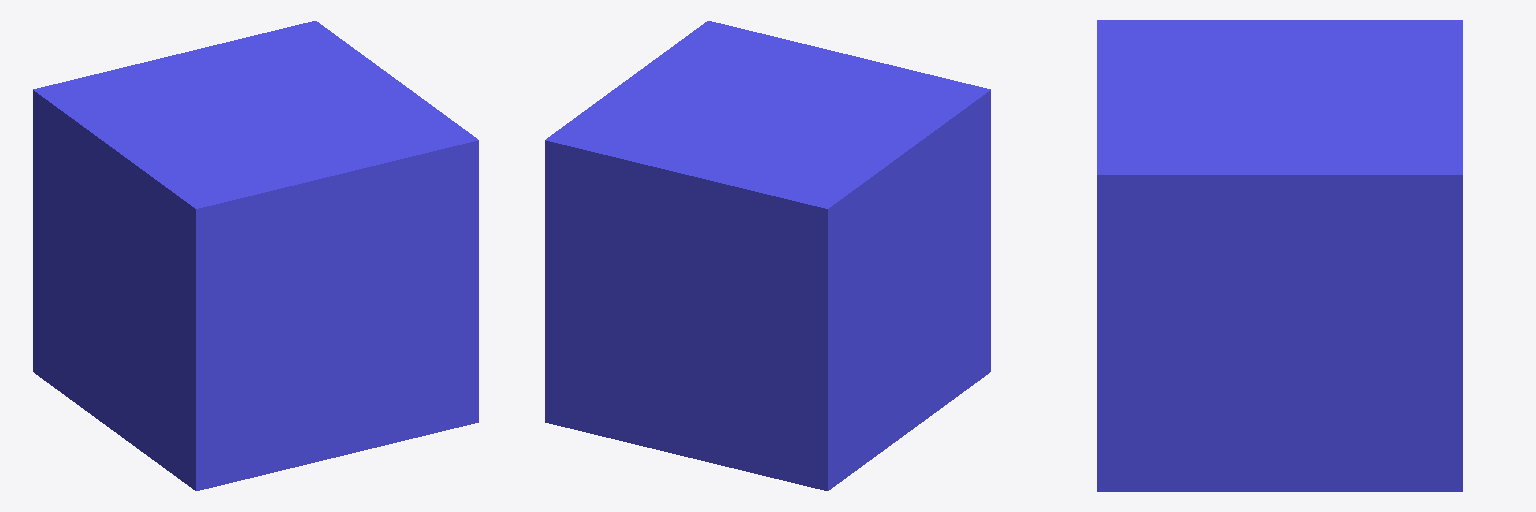
URDF robot description (block.urdf):
<?xml version="1.0" ?>
<robot name="block.urdf">
  <link name="baseLink">
    <contact>
      <lateral_friction value="0.5"/>
      <rolling_friction value="0.0001"/>
      <inertia_scaling value="1.0"/>
    </contact>
    <inertial>
      <origin rpy="0 0 0" xyz="0 0 0"/>
       <mass value=".01"/>
       <inertia ixx="1" ixy="0" ixz="0" iyy="1" iyz="0" izz="1"/>
    </inertial>
    <visual>
      <origin rpy="0 0 0" xyz="0 0 0"/>
      <geometry>
        <mesh filename="block.obj" scale="1.0 1.0 1.0"/>
      </geometry>
       <material name="blue">
        <color rgba="0.4 0.4 1.0 1"/>
      </material>
    </visual>
    <collision>
      <origin rpy="0 0 0" xyz="0 0 0"/>
      <geometry>
        <mesh filename="block.obj" scale="1.0 1.0 1.0"/>
      </geometry>
    </collision>
  </link>
</robot>

--- Facts derived from the render (not from the file) ---
3 views of the same robot in one strip: view 1: azimuth 30°, elevation 25°; view 2: azimuth 150°, elevation 25°; view 3: azimuth 270°, elevation 25° (orthographic).
Robot: block.urdf — 1 links, 0 joints (none); root link baseLink; default pose: all joints at 0.
Visible links, largest first — view 1: baseLink; view 2: baseLink; view 3: baseLink.
Boxes of the visible links, bbox=[...] form: baseLink: bbox=[33, 21, 478, 490]; baseLink: bbox=[545, 21, 990, 490]; baseLink: bbox=[1097, 20, 1462, 491].
Bounding box of the posed robot: 0.042 × 0.042 × 0.04 m (x, y, z).
1 mesh visuals loaded from 1 distinct referenced files (1 OBJ).
